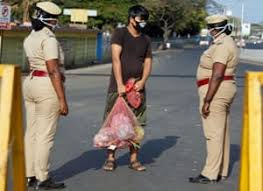mask: (207, 19, 231, 37), (129, 8, 147, 29), (36, 13, 57, 28)
